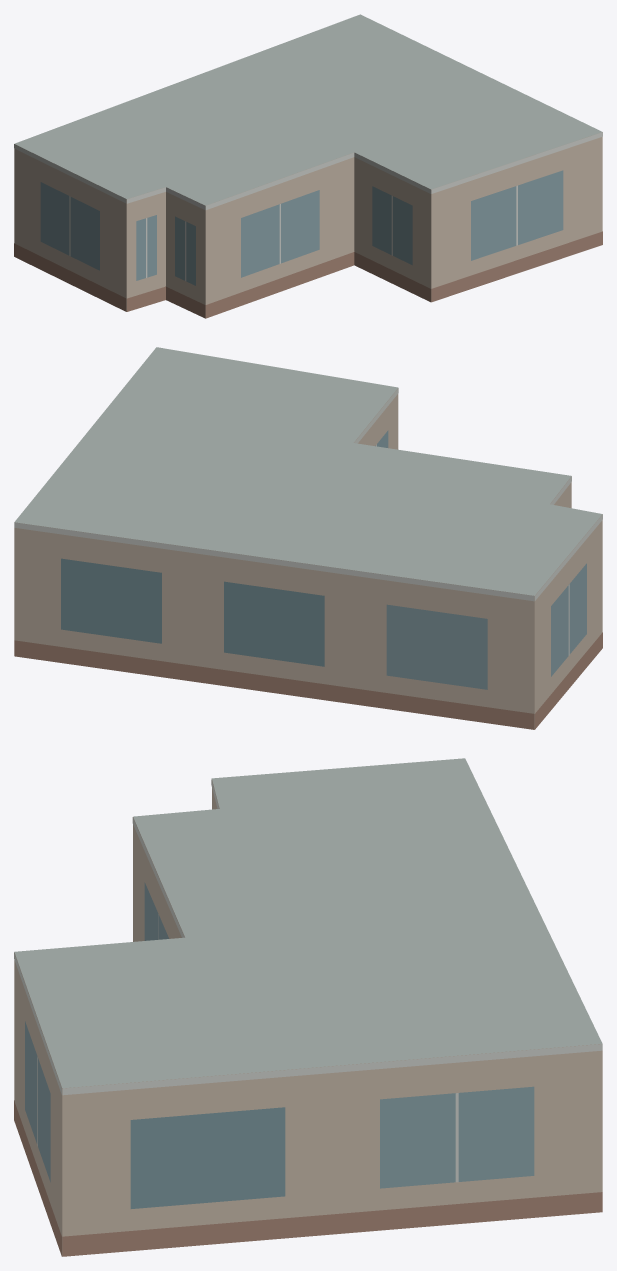
File: survey-upis-32723726.glb
The picture shows the model from 3 angles, top to bottom: view 1: azimuth 30°, elevation 25°; view 2: azimuth 150°, elevation 25°; view 3: azimuth 270°, elevation 25°; orthographic projection. The views are drawn at different scales.
Parts seen in each view (by area): view 1: survey-upis-32723726.tmp; view 2: survey-upis-32723726.tmp; view 3: survey-upis-32723726.tmp.
Boxes of the visible parts, x1,y1,x2,y2 form: survey-upis-32723726.tmp: (14,14,602,318); survey-upis-32723726.tmp: (14,347,602,729); survey-upis-32723726.tmp: (14,758,602,1256).
Size of the model in its own units: 12.84 by 3.05 by 9.67.
